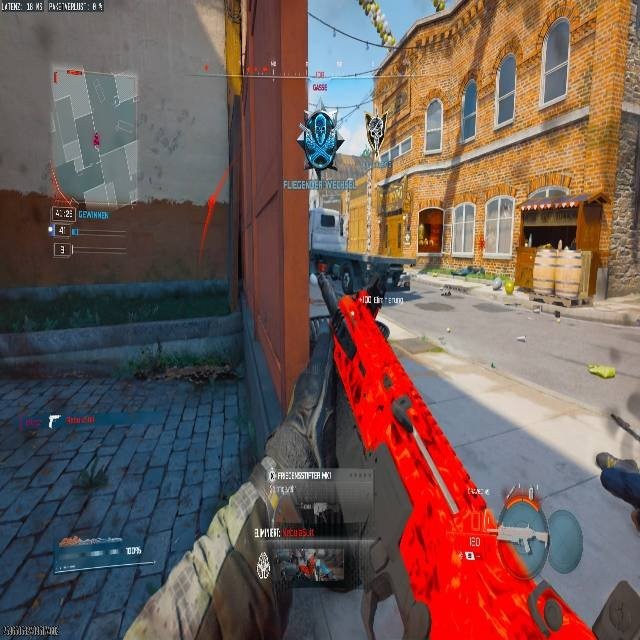player: (301, 107, 343, 175)
